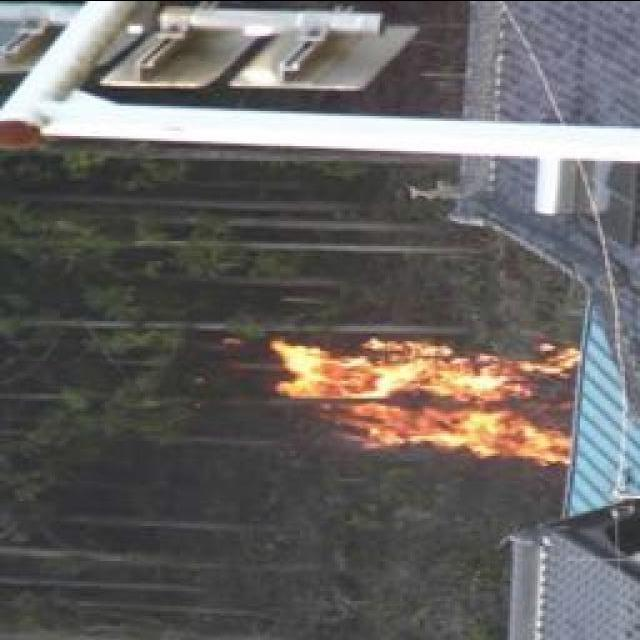Fire: (270, 320, 588, 464)
